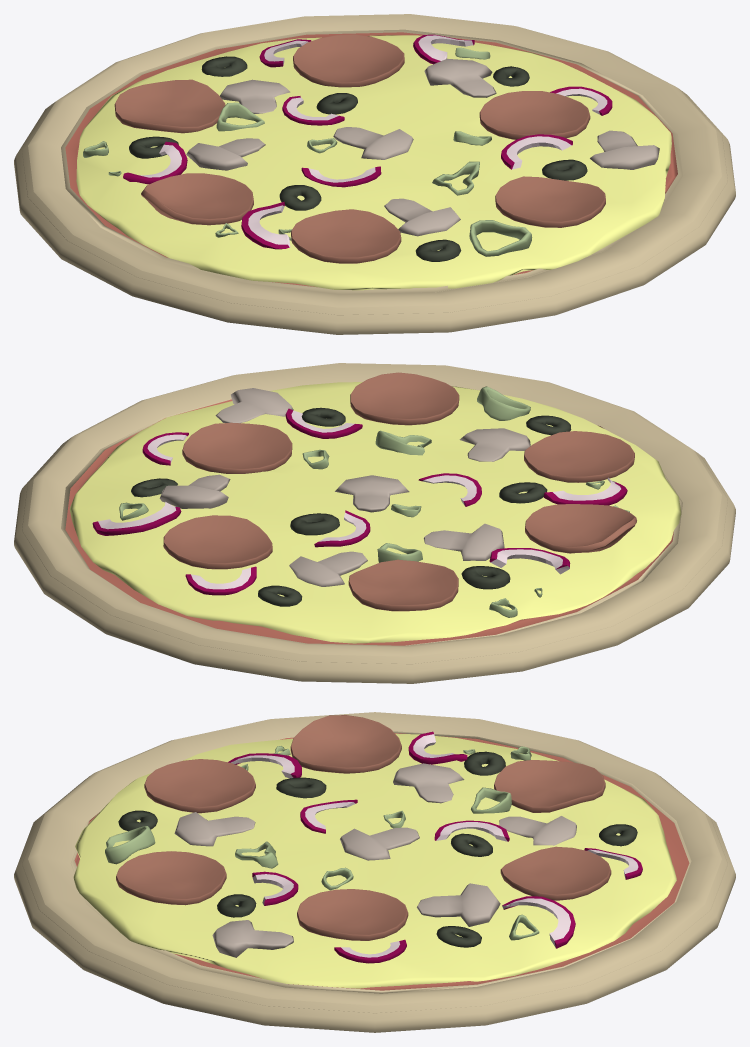
The model's file is thin_mushroom_onion_sausage.gltf.
3 views of the same model, one above another, from view 1: azimuth 30°, elevation 25°; view 2: azimuth 150°, elevation 25°; view 3: azimuth 270°, elevation 25° (orthographic).
Parts seen in each view (by area): view 1: cheese, thin, polySurface143, polySurface147, polySurface145, polySurface146, polySurface144, polySurface142, polySurface128, polySurface162, polySurface129, polySurface163 (+20 smaller); view 2: cheese, thin, polySurface147, polySurface142, polySurface145, polySurface144, polySurface143, polySurface146, polySurface130, polySurface161, polySurface162, polySurface128 (+20 smaller); view 3: cheese, thin, polySurface146, polySurface144, polySurface143, polySurface142, polySurface145, polySurface147, polySurface128, polySurface162, polySurface130, polySurface163 (+20 smaller).
Part boxes in pixels (x1,y1,x2,y2): cheese: [76, 35, 671, 290]; thin: [14, 14, 735, 334]; polySurface143: [291, 209, 401, 263]; polySurface147: [293, 34, 404, 87]; polySurface145: [114, 79, 225, 133]; polySurface146: [141, 173, 253, 225]; polySurface144: [495, 176, 605, 227]; polySurface142: [479, 91, 590, 139]; polySurface128: [424, 58, 496, 97]; polySurface162: [590, 130, 659, 169]; polySurface129: [384, 198, 460, 236]; polySurface163: [333, 127, 413, 159]; cheese: [69, 382, 681, 643]; thin: [14, 363, 735, 683]; polySurface147: [163, 515, 272, 569]; polySurface142: [182, 422, 292, 473]; polySurface145: [348, 559, 458, 611]; polySurface144: [350, 372, 459, 425]; polySurface143: [524, 431, 634, 482]; polySurface146: [525, 504, 636, 553]; polySurface130: [423, 523, 504, 560]; polySurface161: [289, 551, 367, 586]; polySurface162: [215, 388, 293, 423]; polySurface128: [159, 474, 230, 508]; cheese: [73, 733, 676, 988]; thin: [14, 712, 735, 1032]; polySurface146: [290, 715, 401, 773]; polySurface144: [116, 851, 226, 905]; polySurface143: [144, 759, 255, 813]; polySurface142: [297, 889, 408, 940]; polySurface145: [494, 760, 605, 812]; polySurface147: [500, 846, 611, 900]; polySurface128: [416, 883, 500, 926]; polySurface162: [212, 920, 293, 957]; polySurface130: [393, 763, 464, 803]; polySurface163: [340, 827, 419, 860].
Bounding box in the file's own units: 0.0974 × 0.0078 × 0.0974.
